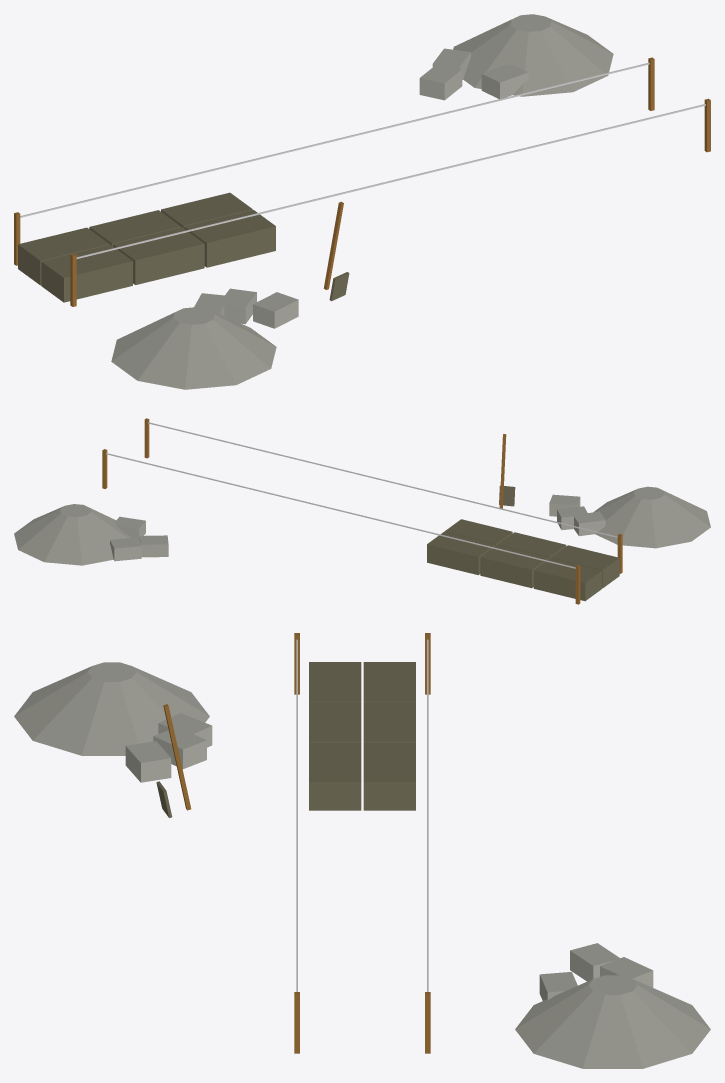
Rendered from SM_ObraReconstruccion_v3_8m_LOD0.fbx.
The picture shows the model from 3 angles, top to bottom: view 1: azimuth 30°, elevation 25°; view 2: azimuth 150°, elevation 25°; view 3: azimuth 270°, elevation 25°; orthographic projection. The views are drawn at different scales.
Visible parts, largest first — view 1: SM_obra_curso_v46_LOD0; view 2: SM_obra_curso_v46_LOD0; view 3: SM_obra_curso_v46_LOD0.
Part boxes in pixels (x1,y1,x2,y2): SM_obra_curso_v46_LOD0: (14,14,710,389); SM_obra_curso_v46_LOD0: (14,418,710,604); SM_obra_curso_v46_LOD0: (14,633,710,1068).
Size of the model in its own units: 8.51 by 1.11 by 6.4.
